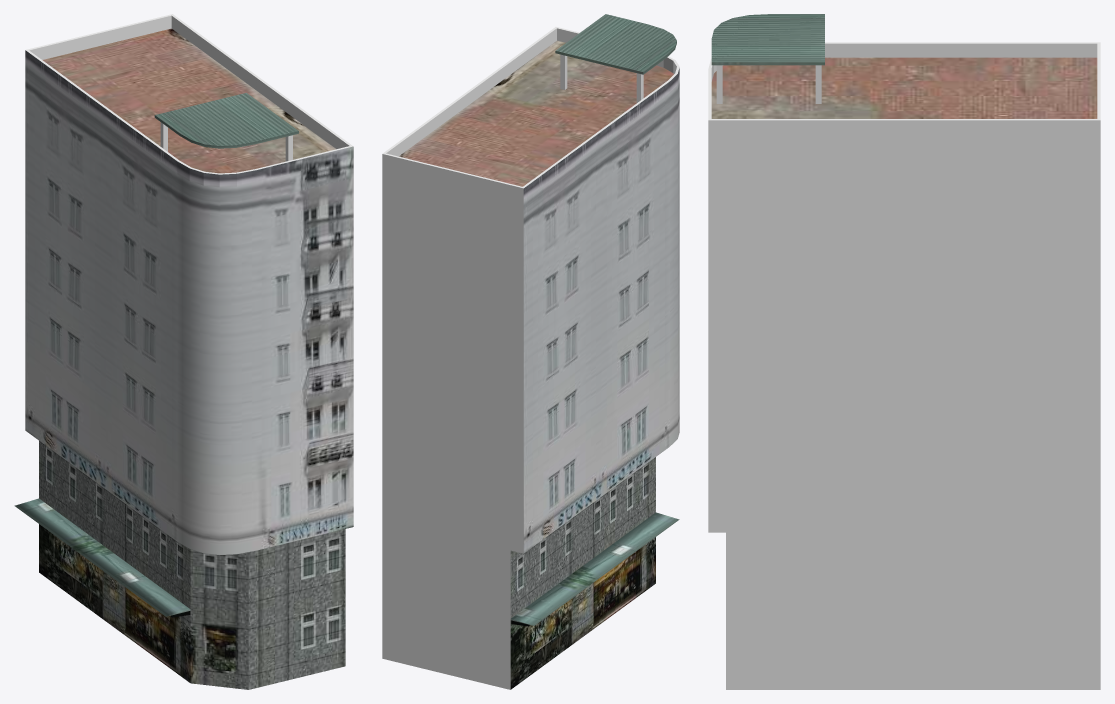
3 views of the same model, side by side, from view 1: azimuth 30°, elevation 25°; view 2: azimuth 150°, elevation 25°; view 3: azimuth 270°, elevation 25° (orthographic). The views are drawn at different scales.
Visible parts, largest first — view 1: HN313___Sunny_Hotel_2; view 2: HN313___Sunny_Hotel_2; view 3: HN313___Sunny_Hotel_2.
Part boxes in pixels (box(x1,y1,x2,y2)): HN313___Sunny_Hotel_2: box(14, 14, 353, 689); HN313___Sunny_Hotel_2: box(382, 14, 679, 689); HN313___Sunny_Hotel_2: box(708, 14, 1100, 689).
Size of the model in its own units: 12.89 by 43.01 by 25.5.
Materials: 1 (1 with a texture image).
